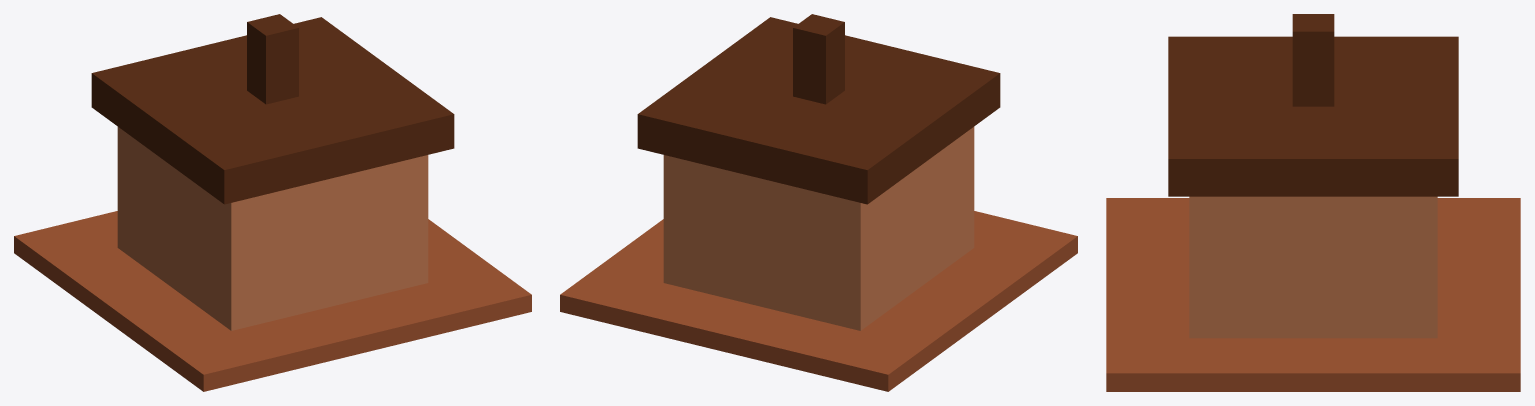
Rendered from zone-tavern.glb.
The picture shows the model from 3 angles, left to right: view 1: azimuth 30°, elevation 25°; view 2: azimuth 150°, elevation 25°; view 3: azimuth 270°, elevation 25°; orthographic projection. The views are drawn at different scales.
Visible parts, largest first — view 1: body, roof, ground, spire; view 2: body, roof, ground, spire; view 3: ground, roof, body, spire.
Part boxes in pixels (left/top/right/bottom): body: left=117, top=127, right=428, bottom=330; roof: left=91, top=17, right=454, bottom=204; ground: left=14, top=211, right=531, bottom=391; spire: left=247, top=14, right=298, bottom=104; body: left=663, top=127, right=974, bottom=330; roof: left=637, top=17, right=1000, bottom=204; ground: left=560, top=211, right=1077, bottom=391; spire: left=793, top=14, right=844, bottom=104; ground: left=1106, top=198, right=1520, bottom=391; roof: left=1168, top=36, right=1458, bottom=196; body: left=1189, top=196, right=1437, bottom=338; spire: left=1292, top=14, right=1334, bottom=106.
Size of the model in its own units: 4 by 3 by 4.
